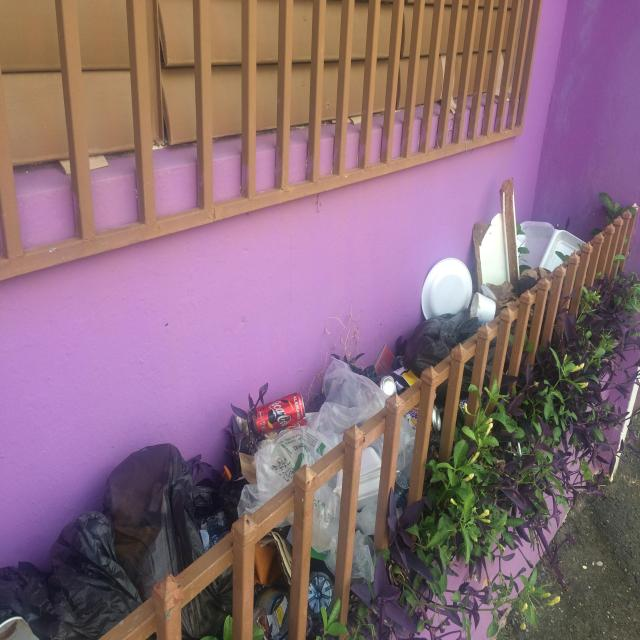litter: (250, 388, 303, 432)
